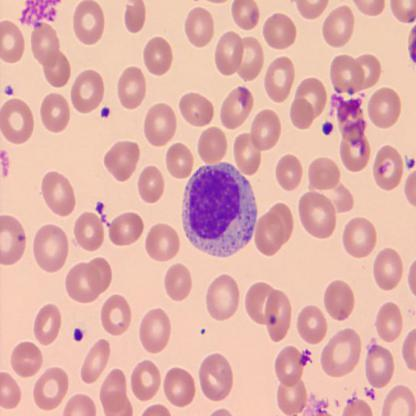Myelocyte: (183, 158, 259, 256)
